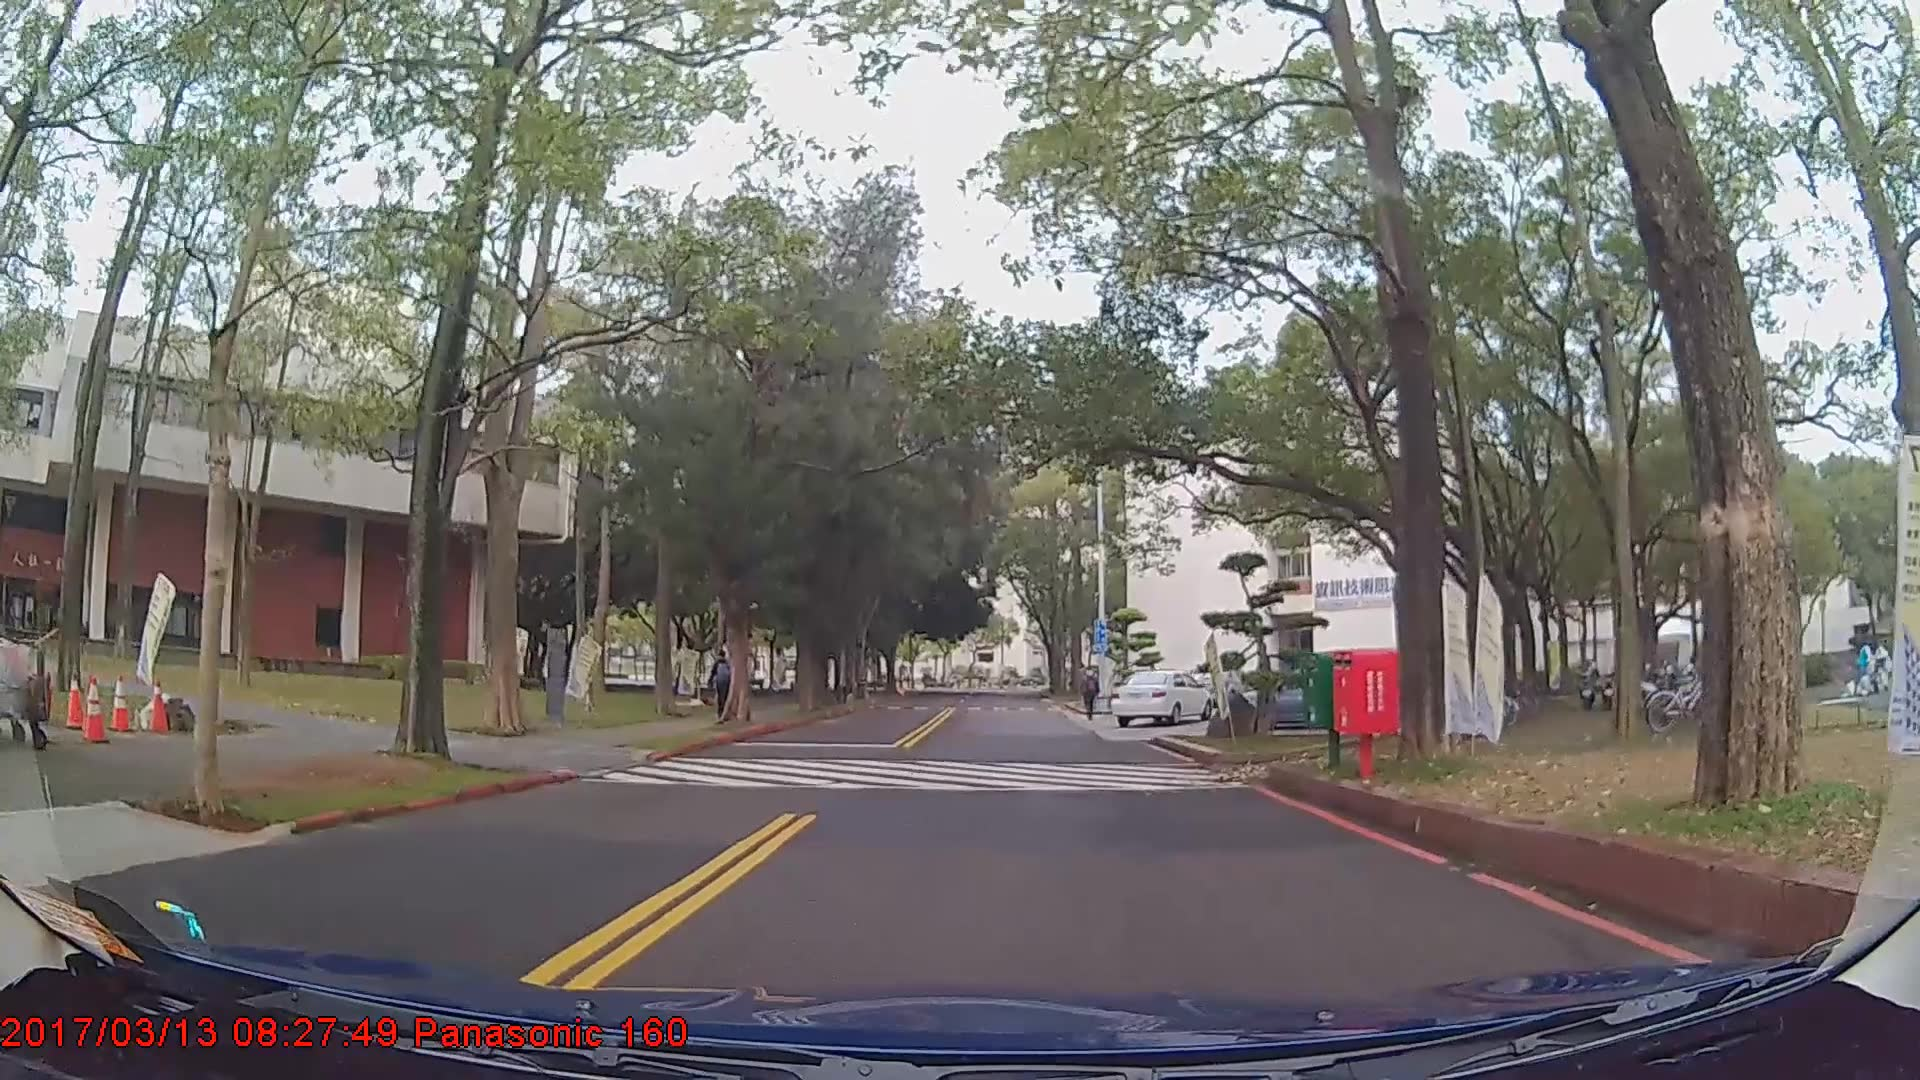pedestrian: (709, 651, 739, 721), (1079, 669, 1101, 724)
vehicle: (1110, 666, 1213, 725)
